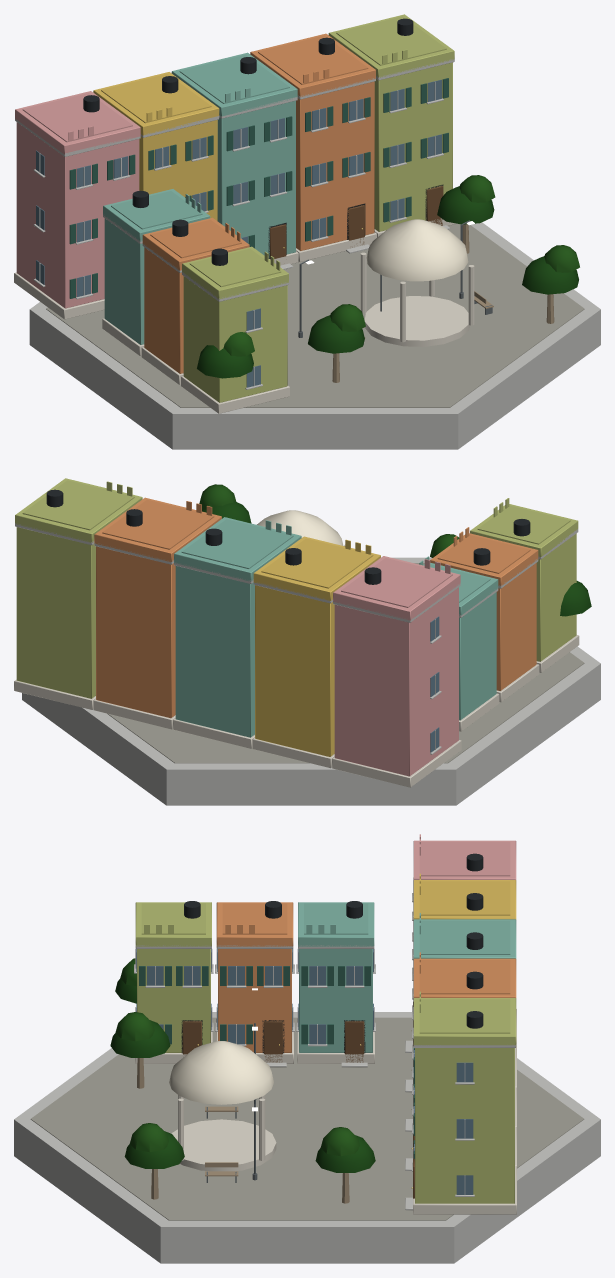
The model's file is residential_india.glb.
The picture shows the model from 3 angles, top to bottom: view 1: azimuth 30°, elevation 25°; view 2: azimuth 150°, elevation 25°; view 3: azimuth 270°, elevation 25°; orthographic projection. The views are drawn at different scales.
Parts seen in each view (by area): view 1: plaster, wall_concrete, pavers, stone, leaf, wood, glass, paint; view 2: plaster, wall_concrete, stone, pavers, leaf, paint, glass; view 3: plaster, pavers, wall_concrete, stone, leaf, wood, glass, paint.
Part boxes in pixels (box(x1,y1,x2,y2)): plaster: box(15, 14, 468, 402); wall_concrete: box(15, 59, 600, 449); pavers: box(46, 223, 584, 407); stone: box(14, 218, 474, 413); leaf: box(197, 175, 579, 378); wood: box(69, 78, 554, 382); glass: box(36, 79, 441, 387); paint: box(83, 18, 413, 265); plaster: box(15, 478, 578, 776); wall_concrete: box(15, 523, 600, 805); stone: box(14, 544, 579, 787); pavers: box(107, 563, 584, 763); leaf: box(199, 484, 591, 616); paint: box(46, 489, 530, 584); glass: box(430, 616, 439, 752); plaster: box(135, 834, 516, 1203); pavers: box(30, 1017, 584, 1220); wall_concrete: box(14, 877, 600, 1263); stone: box(135, 1009, 516, 1214); leaf: box(110, 958, 375, 1172); wood: box(137, 966, 414, 1203); glass: box(136, 949, 473, 1194); paint: box(184, 853, 483, 1028).
Size of the model in its own units: 21.3 by 10.53 by 24.6.
